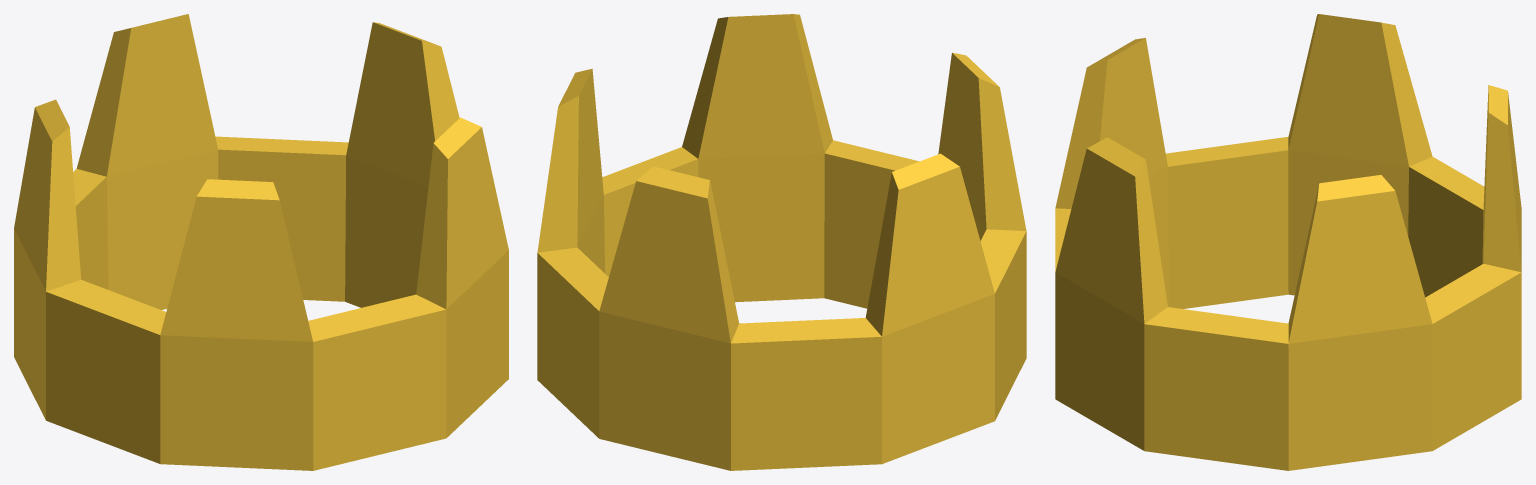
The model's file is Crown.fbx.
3 renders of one model, left to right at view 1: azimuth 30°, elevation 25°; view 2: azimuth 150°, elevation 25°; view 3: azimuth 270°, elevation 25°, orthographic.
Parts seen in each view (by area): view 1: Crown; view 2: Crown; view 3: Crown.
Boxes of the visible parts, box(x1,y1,x2,y2) form: Crown: box(14, 14, 508, 470); Crown: box(537, 14, 1026, 470); Crown: box(1055, 14, 1521, 470).
Bounding box in the file's own units: 0.7273 × 0.4609 × 0.6917.
